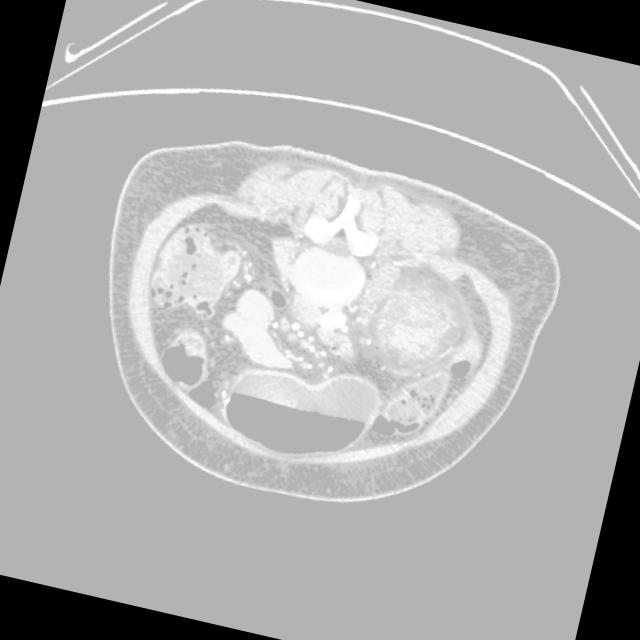TUMOR: (350, 262, 632, 441)
